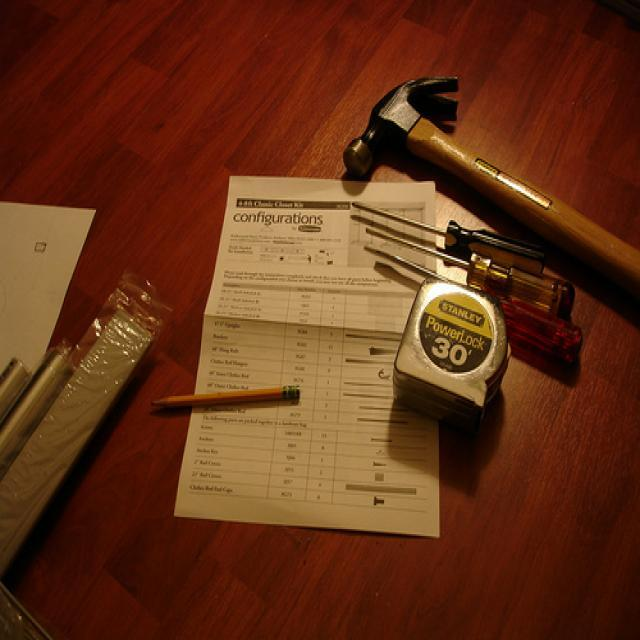hammer: (336, 69, 640, 308)
screwdriver: (370, 254, 586, 368), (358, 219, 584, 322), (343, 184, 551, 279)
